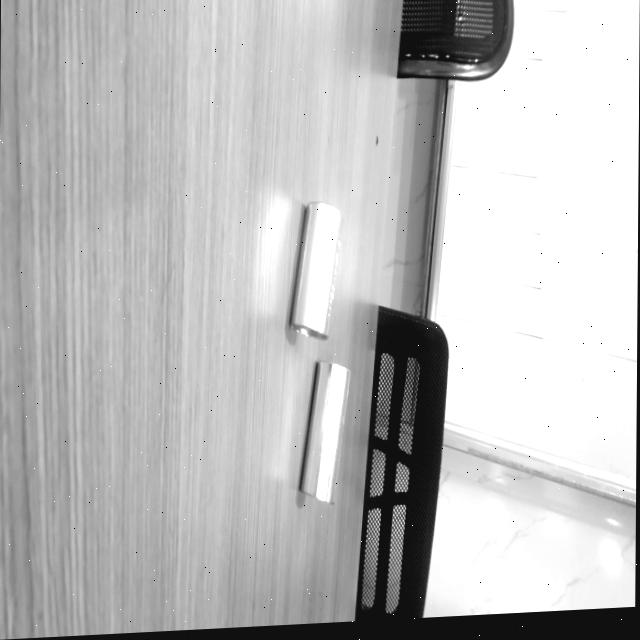Co_Lon: (296, 360, 351, 503)
Co_Nho: (287, 201, 345, 340)
